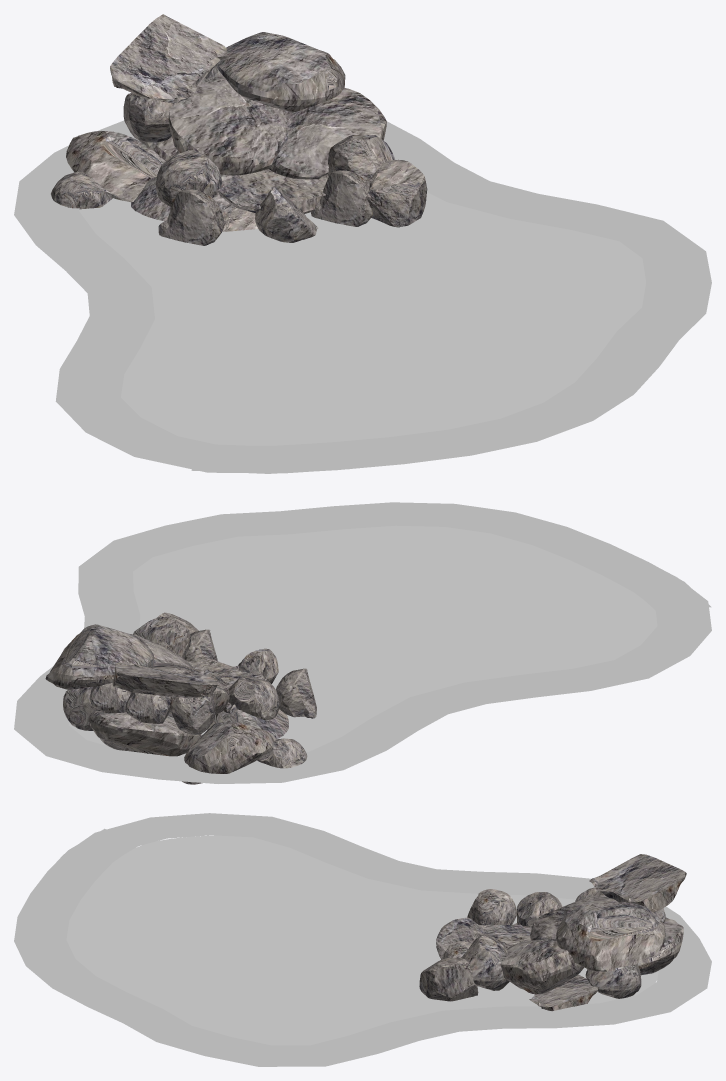
File: artificialrock2.fbx
3 views of the same model, one above another, from view 1: azimuth 30°, elevation 25°; view 2: azimuth 150°, elevation 25°; view 3: azimuth 270°, elevation 25° (orthographic). The views are drawn at different scales.
Visible parts, largest first — view 1: water, sand, Sphere_007, Sphere_006, Cube_001, Sphere_001, Sphere_015, Sphere, Cube, Sphere_017, Sphere_004, Sphere_014 (+6 smaller); view 2: water, sand, Sphere_006, Sphere_015, Sphere_008, Cube_001, Sphere_014, Sphere_017, Sphere_005, Sphere_003, Sphere_009, Sphere_012 (+8 smaller); view 3: water, sand, Sphere_006, Cube_001, Sphere_001, Sphere, Sphere_003, Sphere_017, Cube_002, Sphere_011, Sphere_007, Sphere_008 (+3 smaller).
Boxes of the visible parts, box(x1,y1,x2,y2) form: water: box(79, 192, 645, 445); sand: box(14, 120, 711, 473); Sphere_007: box(168, 75, 288, 175); Sphere_006: box(216, 32, 345, 112); Cube_001: box(110, 14, 227, 103); Sphere_001: box(269, 87, 386, 179); Sphere_015: box(66, 131, 165, 202); Sphere: box(367, 159, 427, 227); Cube: box(218, 169, 328, 213); Sphere_017: box(158, 189, 223, 245); Sphere_004: box(311, 170, 373, 226); Sphere_014: box(155, 150, 221, 207); water: box(69, 525, 657, 757); sand: box(14, 502, 711, 783); Sphere_006: box(45, 624, 154, 689); Sphere_015: box(182, 722, 276, 784); Sphere_008: box(88, 710, 201, 756); Cube_001: box(112, 662, 217, 697); Sphere_014: box(223, 676, 279, 720); Sphere_017: box(276, 668, 316, 718); Sphere_005: box(169, 695, 215, 734); Sphere_003: box(133, 616, 191, 658); Sphere_009: box(126, 692, 170, 723); Sphere_012: box(207, 709, 288, 738); water: box(66, 835, 658, 1045); sand: box(14, 813, 711, 1066); Sphere_006: box(556, 902, 665, 971); Cube_001: box(589, 854, 686, 912); Sphere_001: box(501, 938, 583, 994); Sphere: box(419, 957, 478, 1001); Sphere_003: box(461, 935, 509, 990); Sphere_017: box(467, 889, 516, 925); Cube_002: box(529, 974, 599, 1011); Sphere_011: box(585, 963, 641, 998); Sphere_007: box(530, 894, 618, 940); Sphere_008: box(586, 917, 683, 975).
Size of the model in its own units: 33.54 by 7.04 by 38.98.
